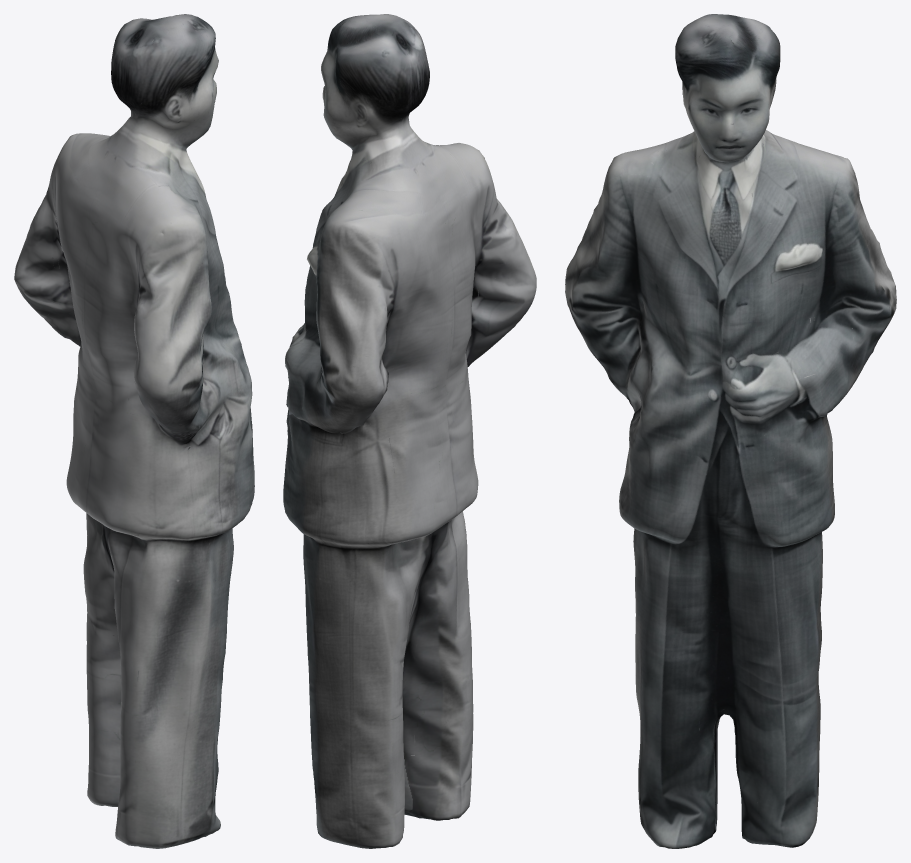
The model's file is a_young_Chinese_man_wearing_suit_in_1930s_in_Shanghai_0430074700_refine.obj.
3 views of the same model, side by side, from view 1: azimuth 30°, elevation 25°; view 2: azimuth 150°, elevation 25°; view 3: azimuth 270°, elevation 25° (orthographic). The views are drawn at different scales.
Parts seen in each view (by area): view 1: Mesh_0.001; view 2: Mesh_0.001; view 3: Mesh_0.001.
Part boxes in pixels (<box>): Mesh_0.001: <box>14,14,254,848</box>; Mesh_0.001: <box>283,14,536,848</box>; Mesh_0.001: <box>565,14,896,848</box>.
Size of the model in its own units: 0.2643 by 1.2 by 0.4416.
